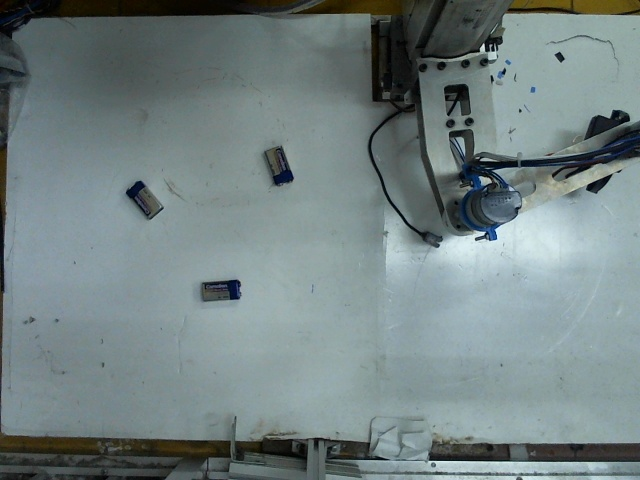battery: (125, 179, 163, 218), (259, 141, 294, 181), (196, 276, 244, 303)
